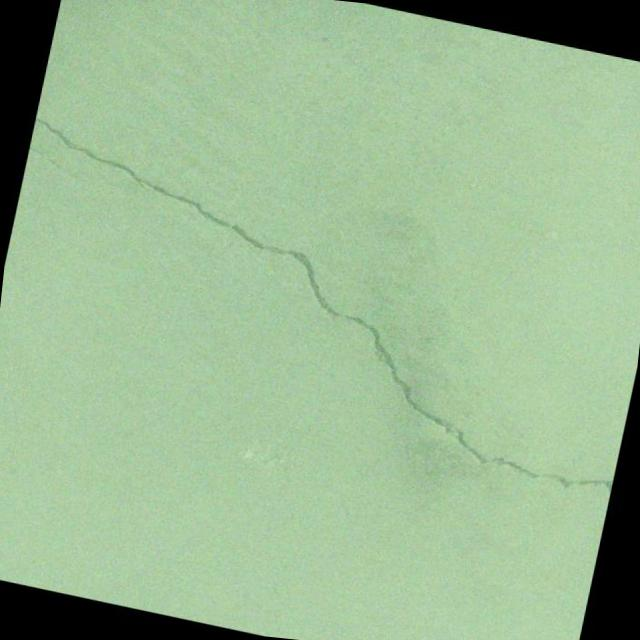crack: (0, 113, 640, 498), (26, 146, 67, 170)
